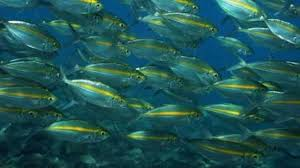Ikan Selar: (59, 79, 127, 112), (71, 59, 146, 87), (139, 99, 206, 127), (43, 120, 113, 146), (194, 138, 266, 162), (168, 54, 223, 83), (123, 129, 188, 150)
